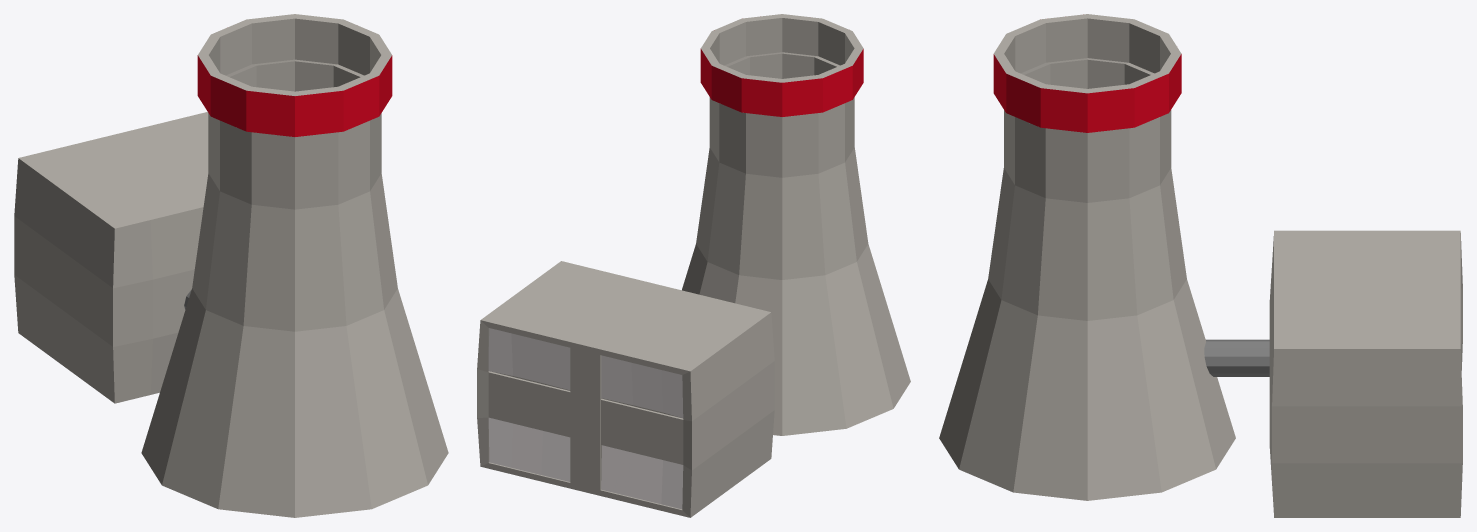
The model's file is power-plant.gltf.
3 renders of one model, left to right at view 1: azimuth 30°, elevation 25°; view 2: azimuth 150°, elevation 25°; view 3: azimuth 270°, elevation 25°, orthographic. The views are drawn at different scales.
Visible parts, largest first — view 1: Chimney, Building, Ring; view 2: Chimney, Building, Windows, Ring; view 3: Chimney, Building, Ring, Pipe.
Part boxes in pixels (bbox=[...]): Chimney: bbox=[141, 14, 448, 517]; Building: bbox=[14, 112, 208, 403]; Ring: bbox=[197, 55, 392, 136]; Chimney: bbox=[682, 14, 910, 435]; Building: bbox=[477, 261, 774, 517]; Windows: bbox=[488, 328, 683, 509]; Ring: bbox=[700, 48, 863, 116]; Chimney: bbox=[939, 14, 1235, 500]; Building: bbox=[1269, 230, 1462, 517]; Ring: bbox=[993, 54, 1181, 132]; Pipe: bbox=[1204, 339, 1269, 376].
Size of the model in its own units: 7.25 by 9.12 by 11.23.
